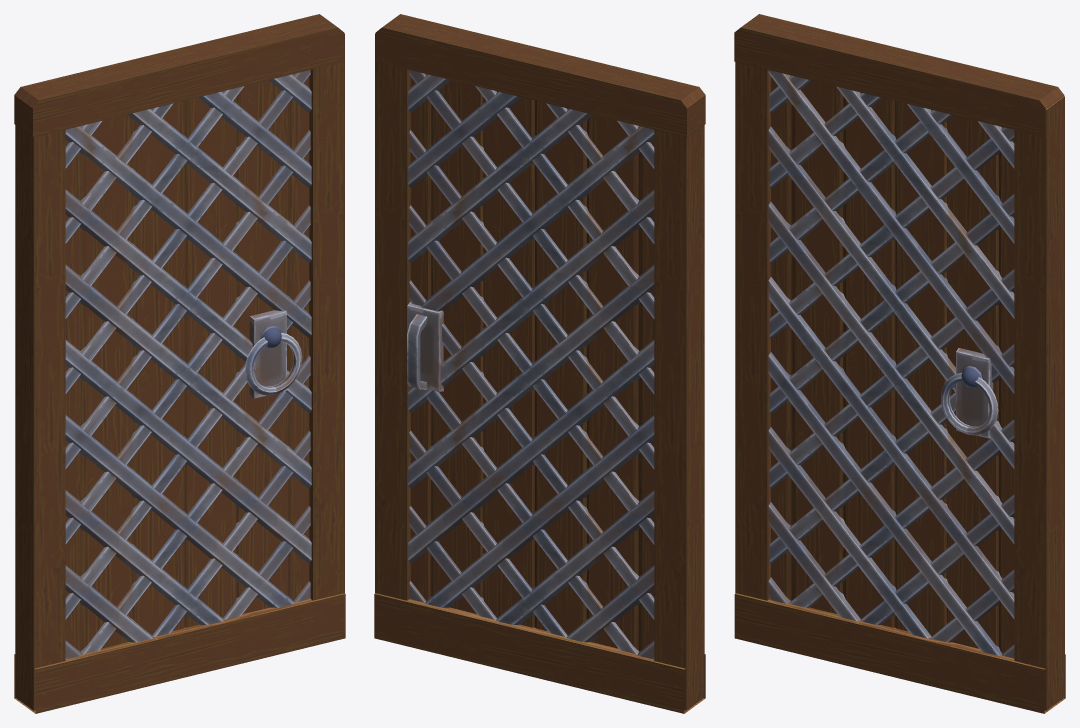
Rendered from Door_4_Flat.gltf.
3 renders of one model, left to right at view 1: azimuth 30°, elevation 25°; view 2: azimuth 150°, elevation 25°; view 3: azimuth 330°, elevation 25°, orthographic.
Visible parts, largest first — view 1: Door_4_Flat; view 2: Door_4_Flat; view 3: Door_4_Flat.
Part boxes in pixels (x1,y1,x2,y2): Door_4_Flat: (14, 14, 345, 713); Door_4_Flat: (374, 14, 705, 713); Door_4_Flat: (734, 14, 1065, 713).
Bounding box in the file's own units: 1.12 × 2.09 × 0.2093.
Materials: 2 (2 with a texture image).
